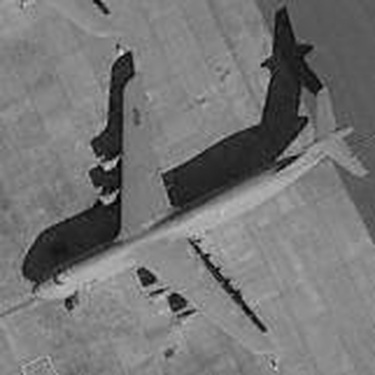airplane: (16, 35, 370, 370)
